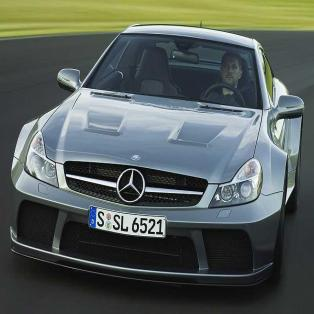Auto: (9, 23, 304, 290)
